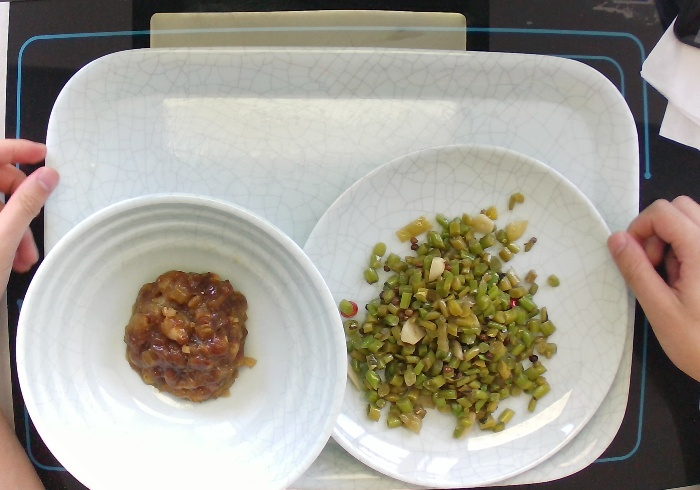JYsf-Da_Tang_Wan: (13, 192, 348, 490)
JYsf-Da_Yuan_Pan: (298, 141, 629, 490)
